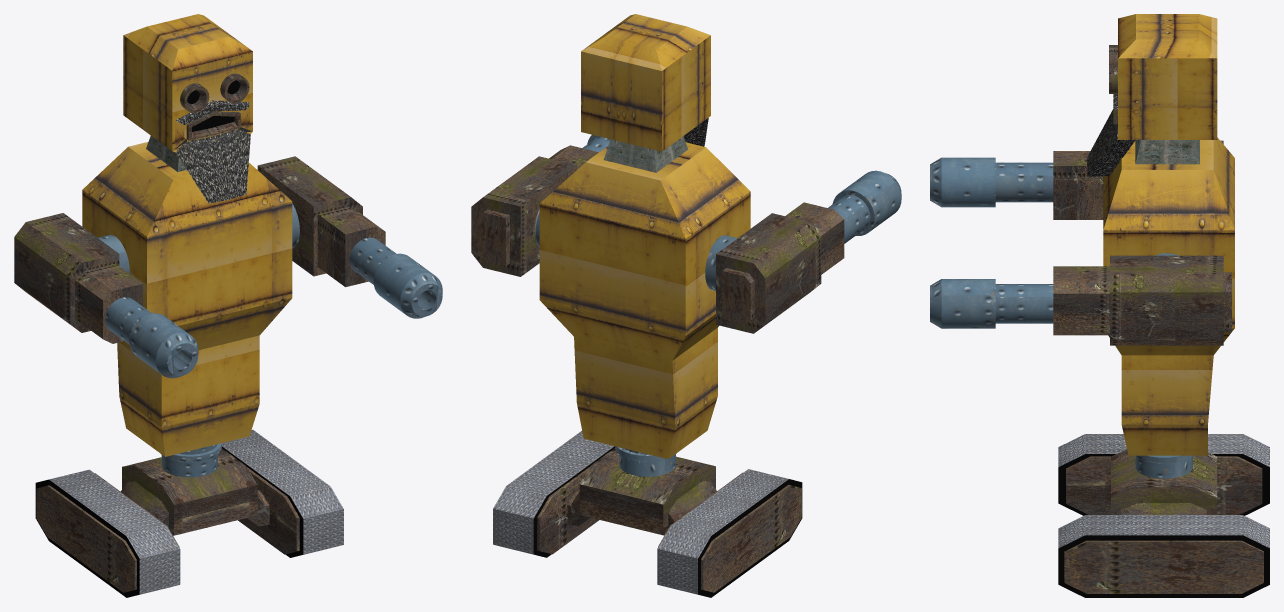
The model's file is GiantBoss.fbx.
The picture shows the model from 3 angles, left to right: view 1: azimuth 30°, elevation 25°; view 2: azimuth 150°, elevation 25°; view 3: azimuth 270°, elevation 25°; orthographic projection.
Parts seen in each view (by area): view 1: Robot, Guns; view 2: Robot, Guns; view 3: Robot, Guns.
Boxes of the visible parts, <box> form: Robot: <box>35,14,343,597</box>; Guns: <box>14,156,442,378</box>; Robot: <box>493,14,802,597</box>; Guns: <box>471,135,901,333</box>; Robot: <box>1058,14,1269,597</box>; Guns: <box>930,140,1231,345</box>.
Bounding box in the file's own units: 4824 × 8061 × 4770.
